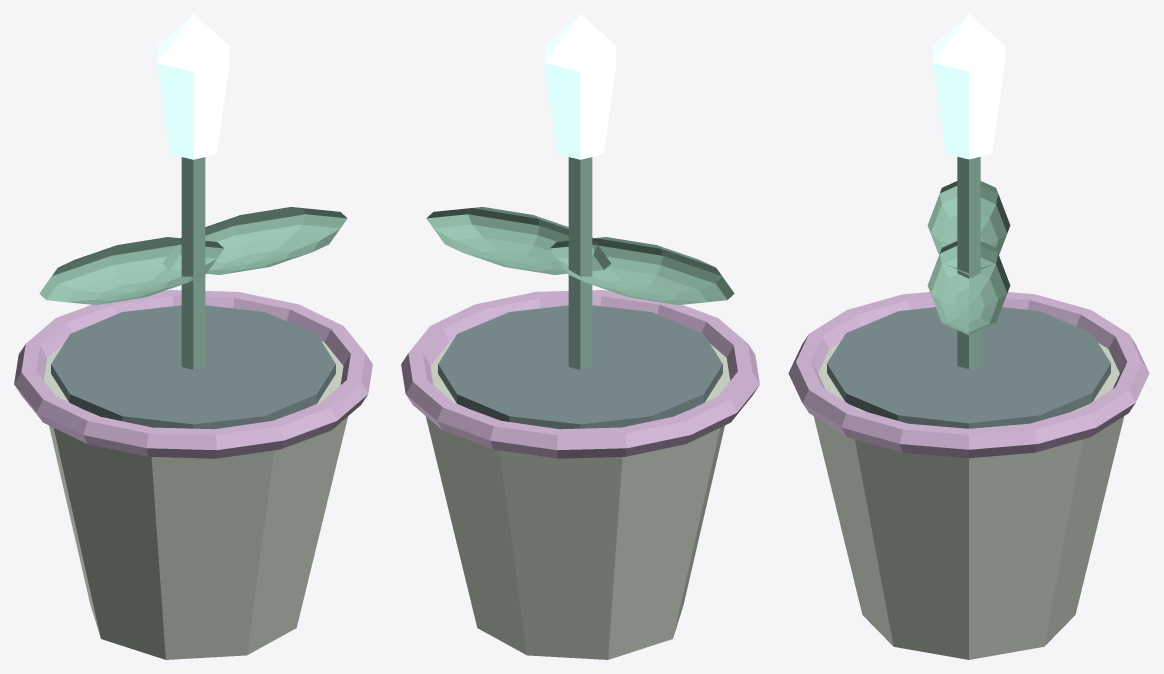
File: runestone-conservatory-crystal-seed-planter__112.glb
The picture shows the model from 3 angles, left to right: view 1: azimuth 30°, elevation 25°; view 2: azimuth 150°, elevation 25°; view 3: azimuth 270°, elevation 25°; orthographic projection.
Visible parts, largest first — view 1: runestone-conservatory-seed-planter; view 2: runestone-conservatory-seed-planter; view 3: runestone-conservatory-seed-planter.
Boxes of the visible parts, x1,y1,x2,y2 form: runestone-conservatory-seed-planter: (14,14,372,659); runestone-conservatory-seed-planter: (401,14,759,659); runestone-conservatory-seed-planter: (788,14,1149,659).
Size of the model in its own units: 0.61 by 1.12 by 0.61.
